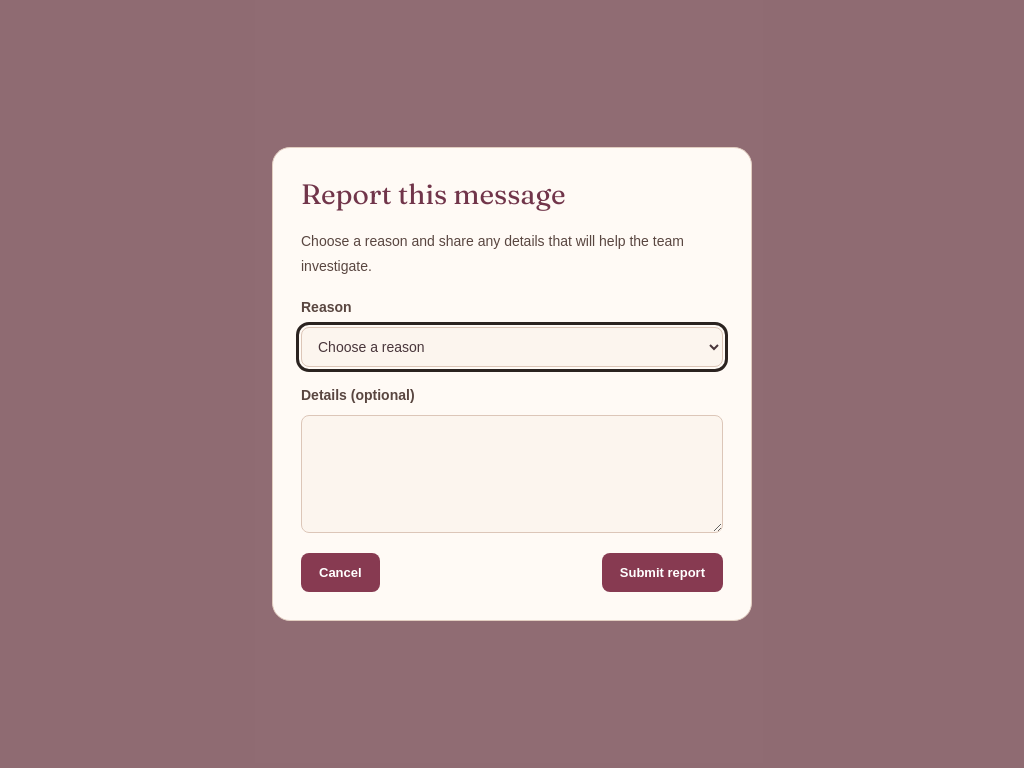
message reports use the specific message ID and retain drafts on failure
This screenshot has width=1024, height=768.
Select "Harassment" in the dropdown labelled "Reason" at (512, 347), box x1=301 y1=327 x2=723 y2=367
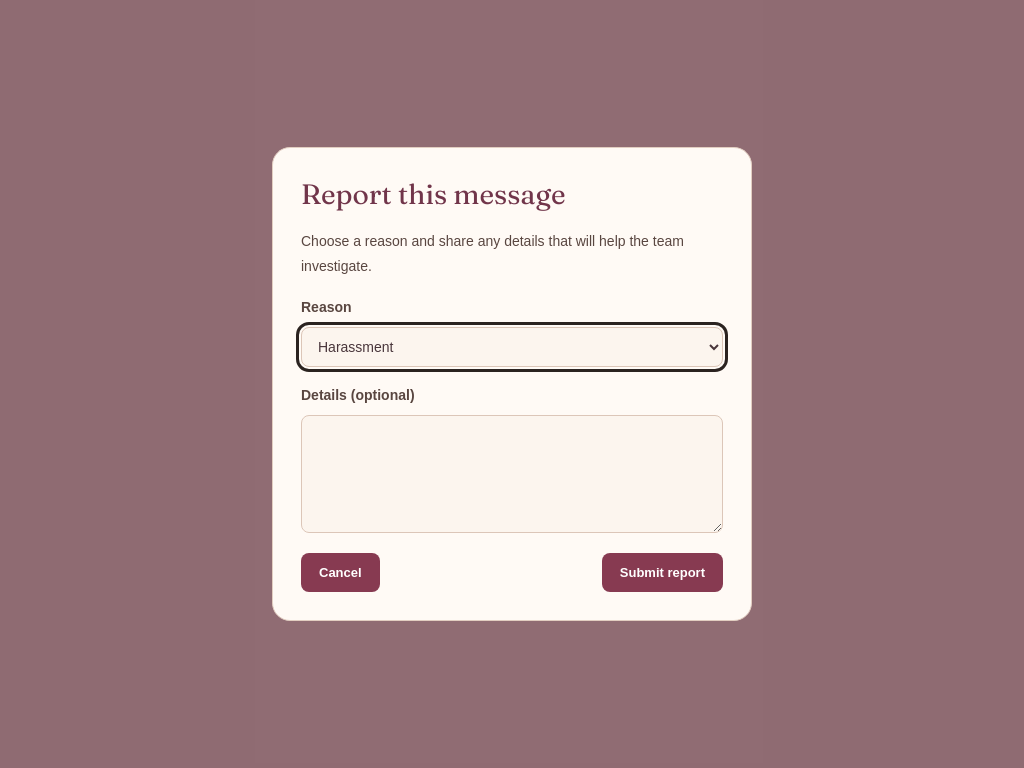
Type "Repeated unwanted messages" into the text box labelled "Details (optional)" at (512, 474), box x1=301 y1=416 x2=723 y2=533
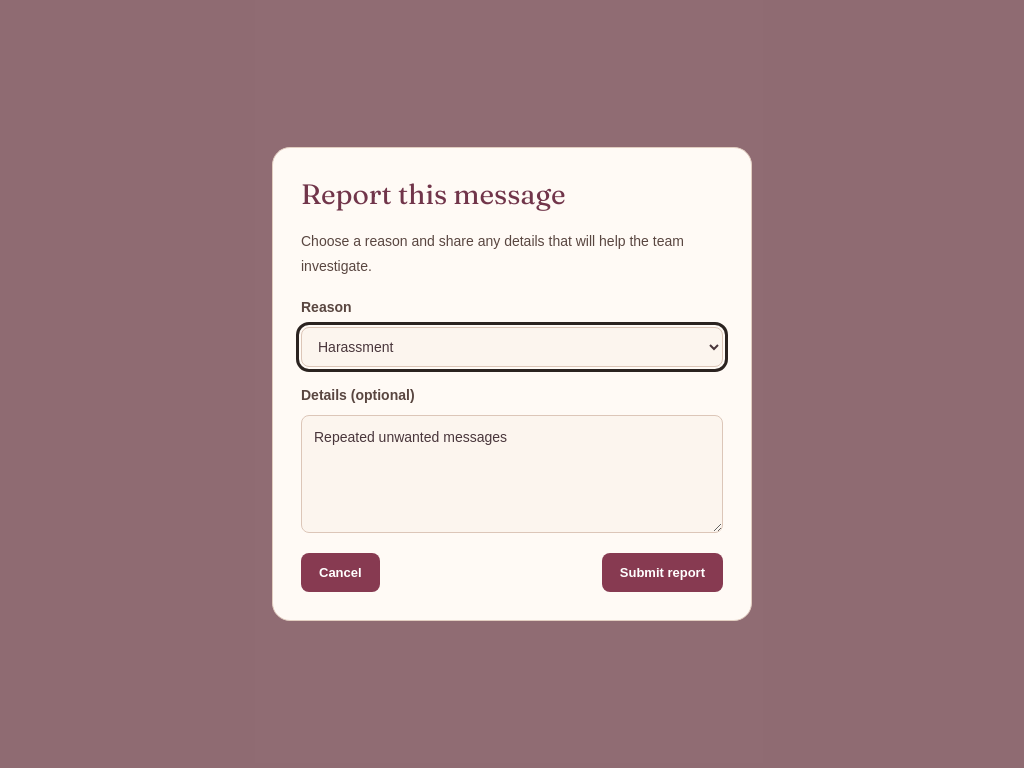
Click the button "Submit report" at (662, 572), box x1=602 y1=553 x2=723 y2=592
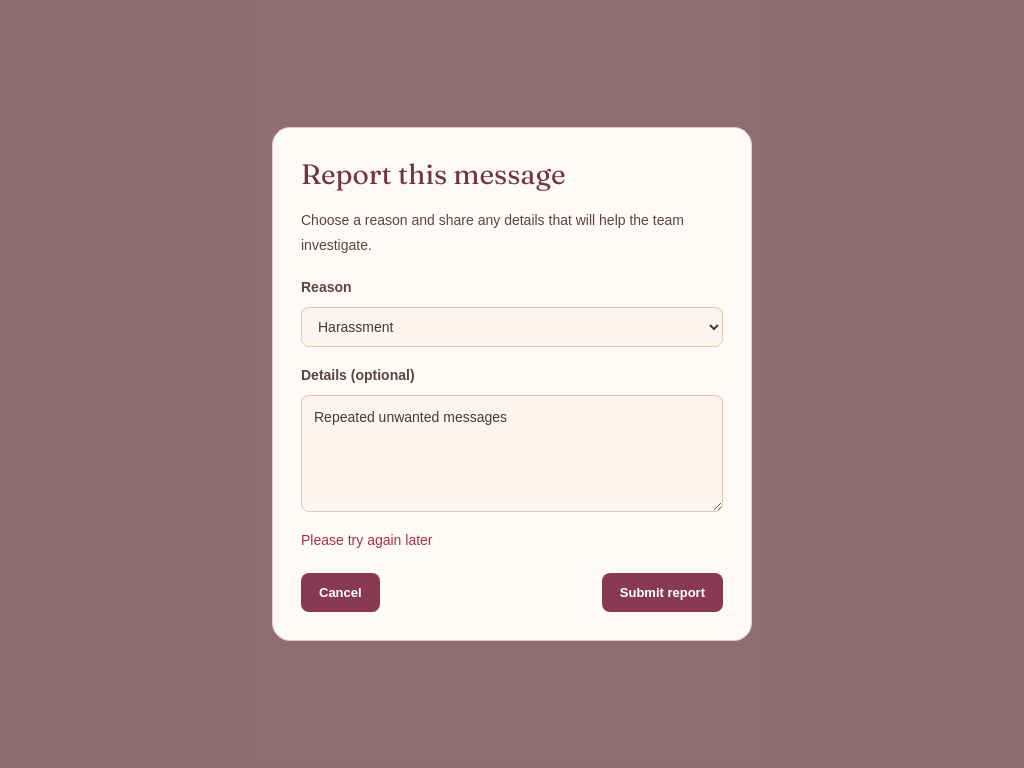
Check: the message "Please try again later" is shown, box x1=301 y1=532 x2=432 y2=548
